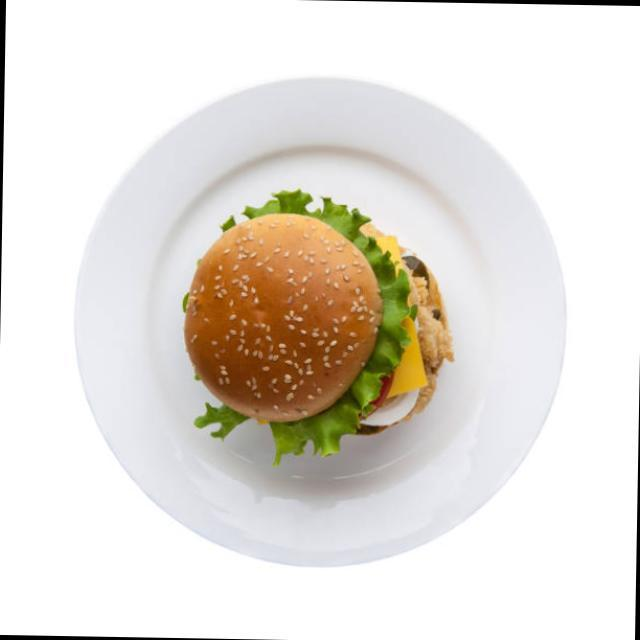Hamburger: (170, 182, 460, 458)
